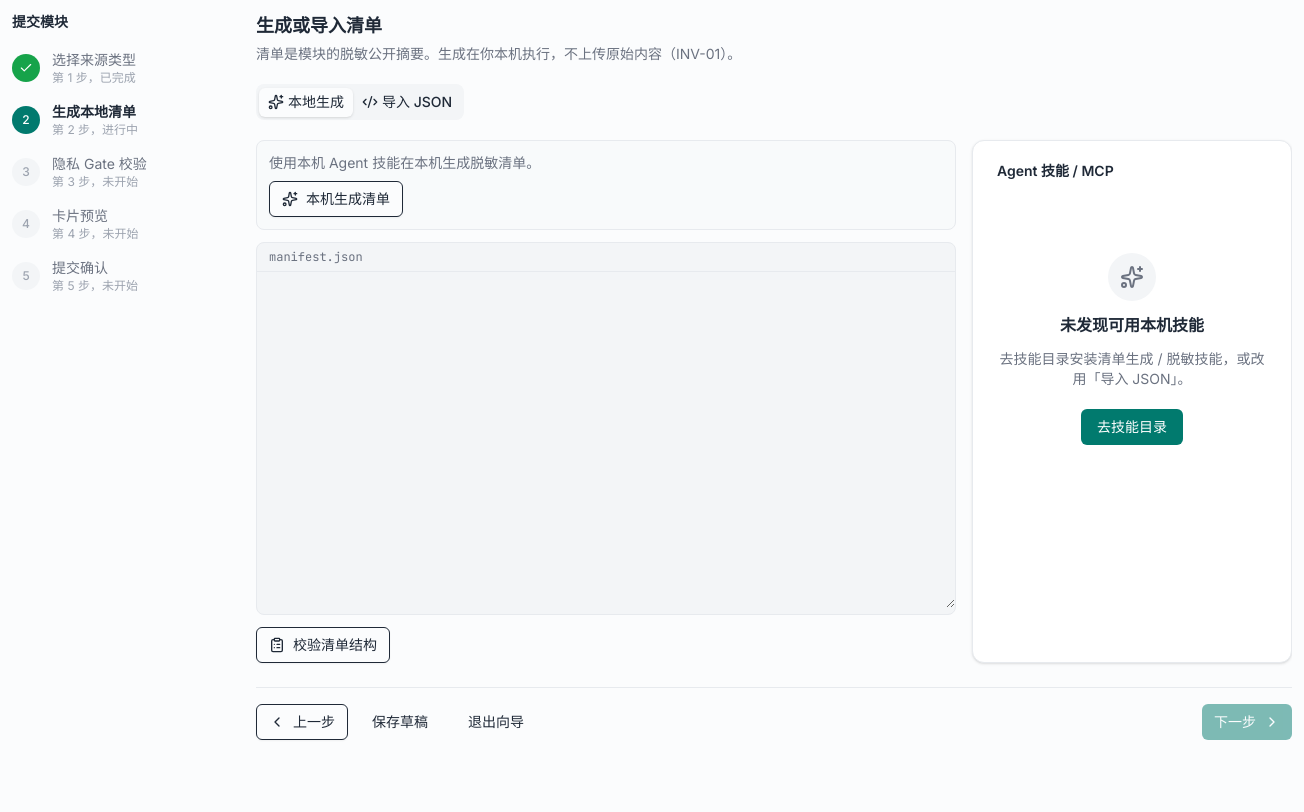
Test: SubmitWizard（PAGE-020~024 集成） › 第 3 步：扫描得 pass → 勾选同意后推进；扫描得 block → 无法绕过（INV-02）
This screenshot has width=1304, height=812.
expect the heading "生成或导入清单" is shown: met, box top-left (256, 15), bottom-right (382, 36)
Click the button "本机生成清单": coordinates (336, 199) top-left (269, 181), bottom-right (403, 217)
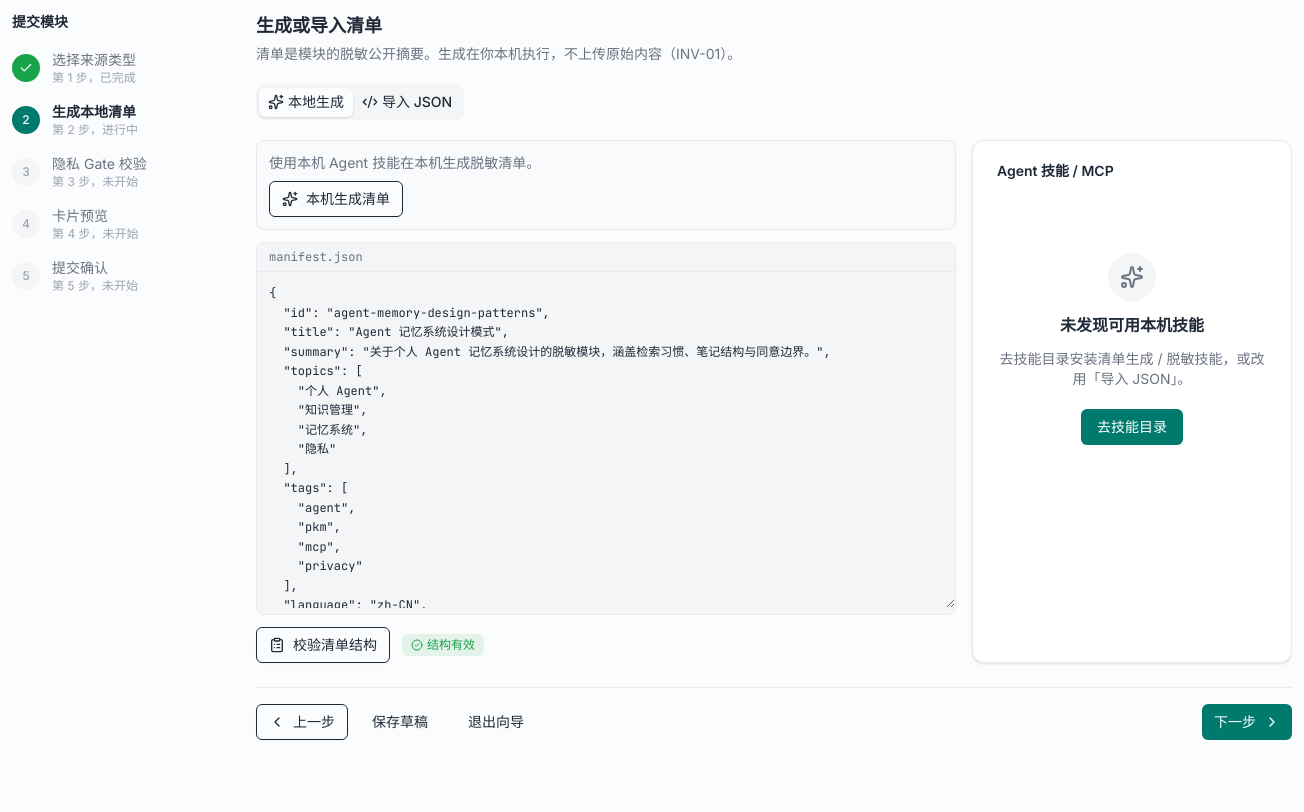
expect the text "结构有效" is shown: met, box top-left (427, 637), bottom-right (475, 653)
Click the button "下一步": coordinates (1247, 722) top-left (1202, 704), bottom-right (1292, 740)
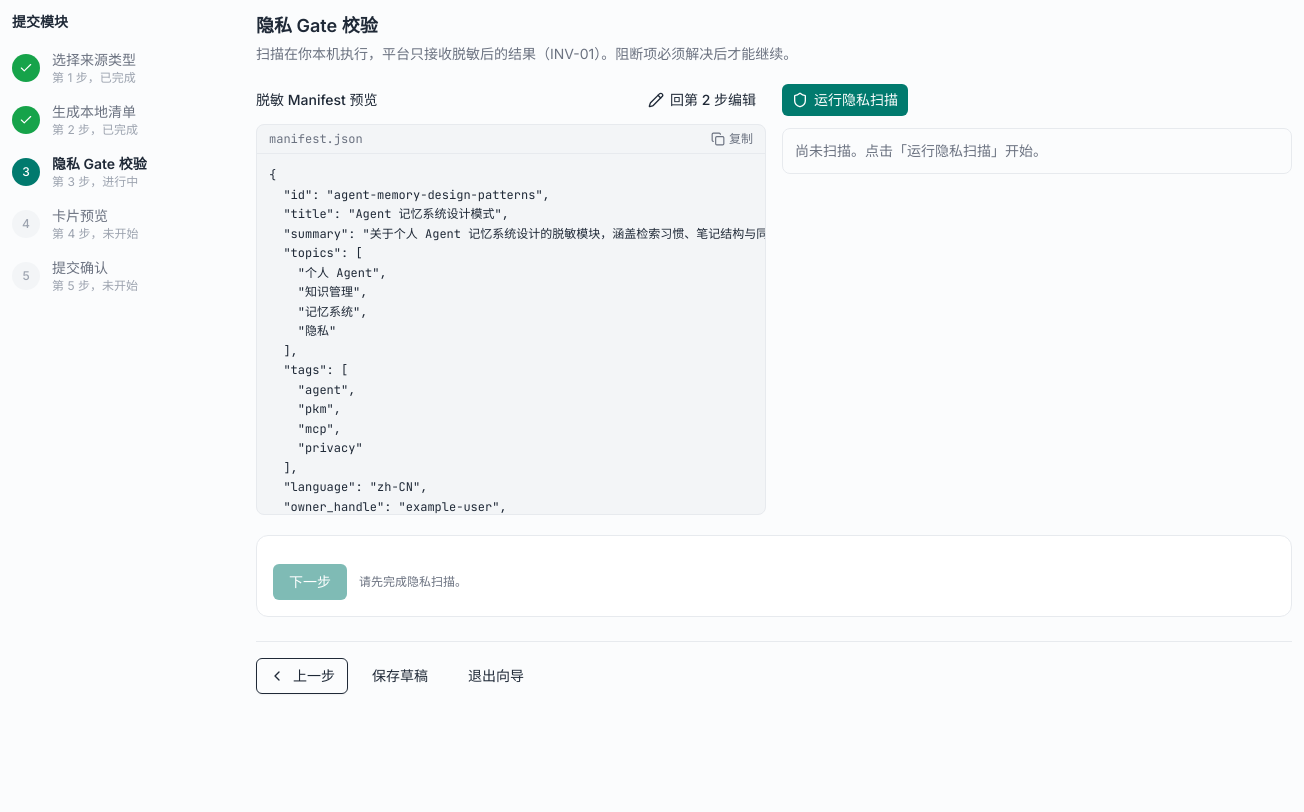
expect the heading "隐私 Gate 校验" is shown: met, box top-left (256, 15), bottom-right (378, 36)
Click the button "运行隐私扫描": coordinates (845, 100) top-left (782, 84), bottom-right (908, 116)
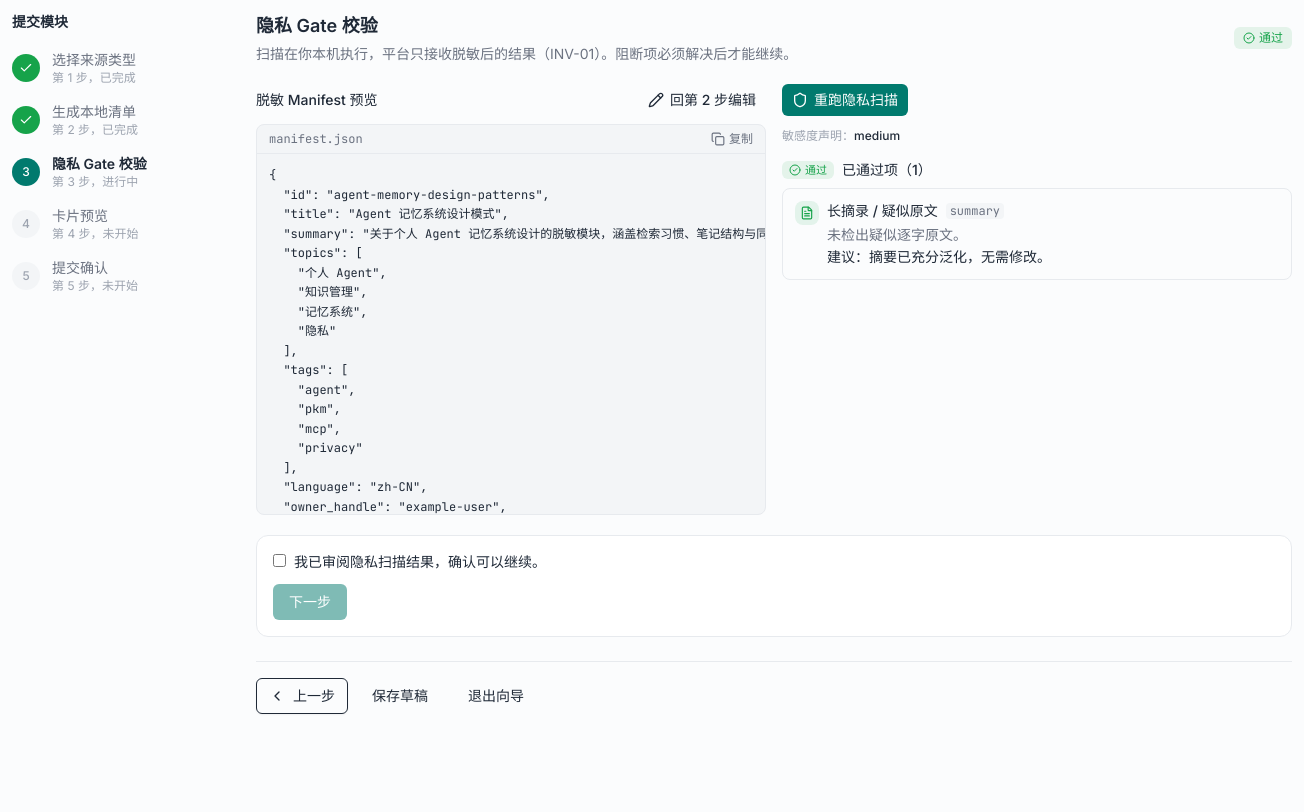
expect the button "下一步" is disabled: met, box top-left (273, 584), bottom-right (347, 620)
expect the checkbox is shown: met
Click the checkbox: coordinates (280, 560) top-left (273, 554), bottom-right (286, 567)
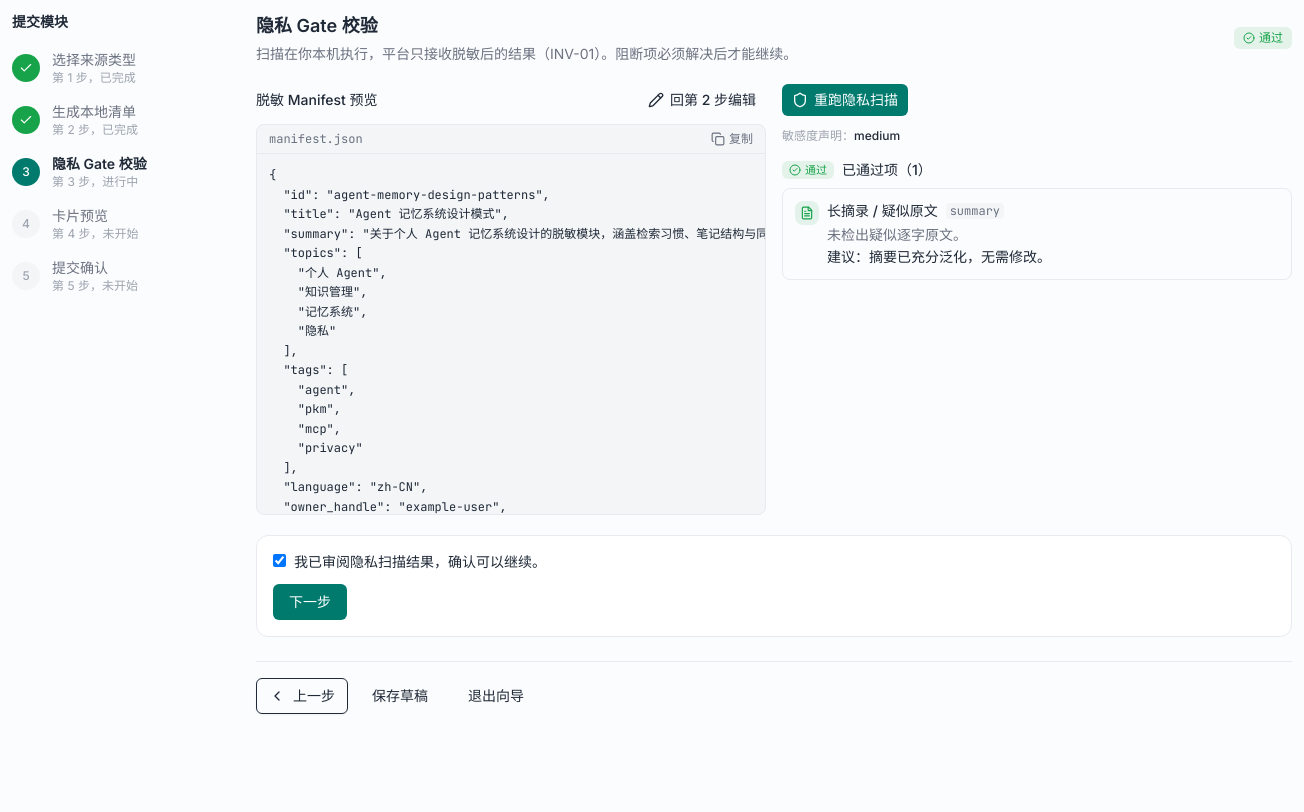
expect the button "下一步" is enabled: met, box top-left (273, 584), bottom-right (347, 620)
